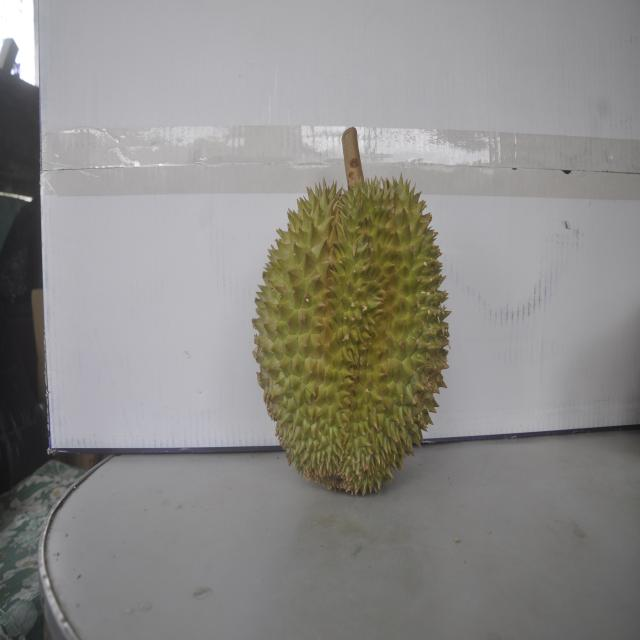mature: (254, 151, 448, 494)
